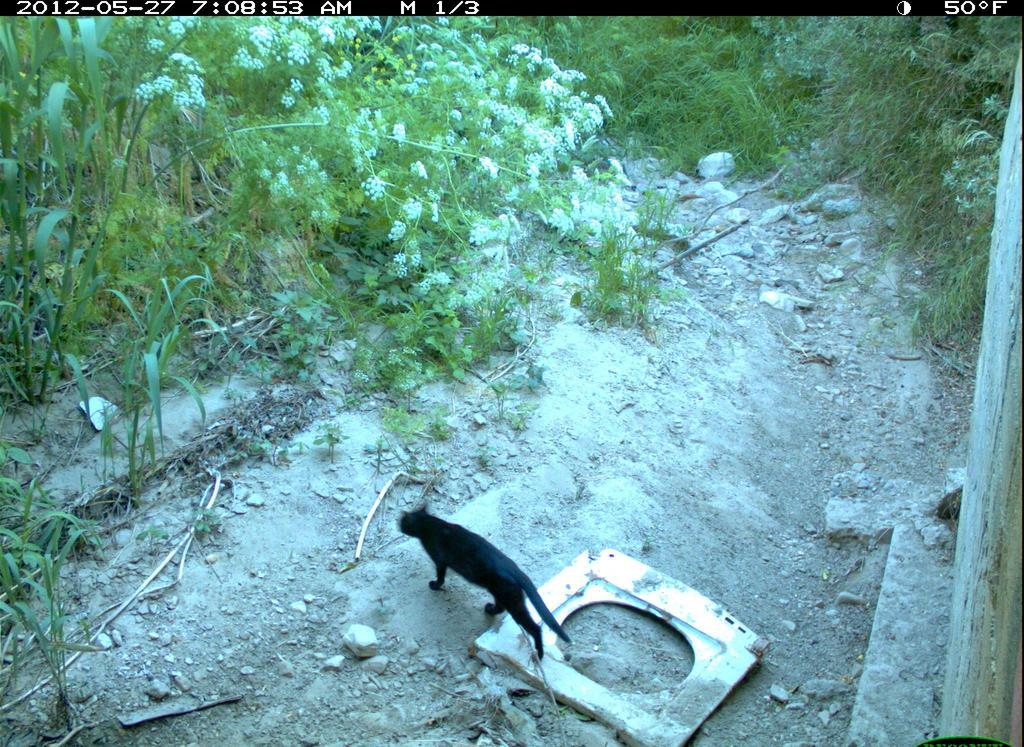cat: (399, 487, 578, 671)
